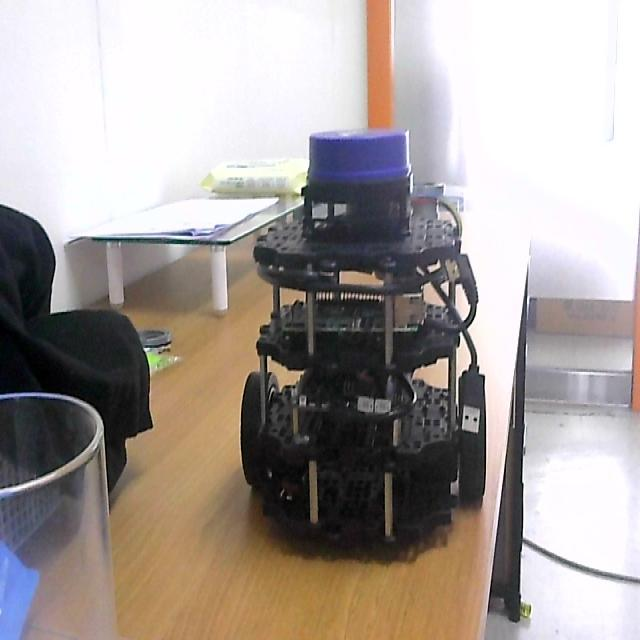turtle: (238, 126, 489, 564)
